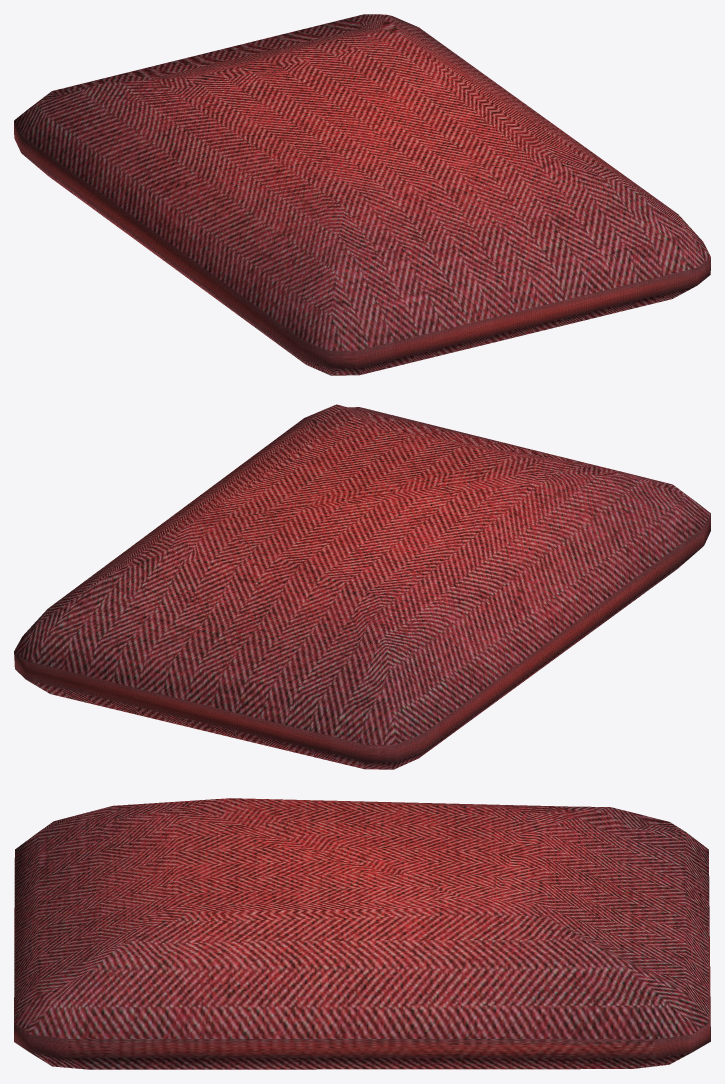
Rendered from Cama - travesseiro.fbx.
3 views of the same model, one above another, from view 1: azimuth 30°, elevation 25°; view 2: azimuth 150°, elevation 25°; view 3: azimuth 270°, elevation 25° (orthographic). The views are drawn at different scales.
Visible parts, largest first — view 1: Cube.054; view 2: Cube.054; view 3: Cube.054.
Boxes of the visible parts, x1=… form: Cube.054: x1=14, y1=14, x2=710, y2=375; Cube.054: x1=14, y1=404, x2=710, y2=769; Cube.054: x1=14, y1=798, x2=710, y2=1069.
Size of the model in its own units: 98.79 by 27.19 by 141.
